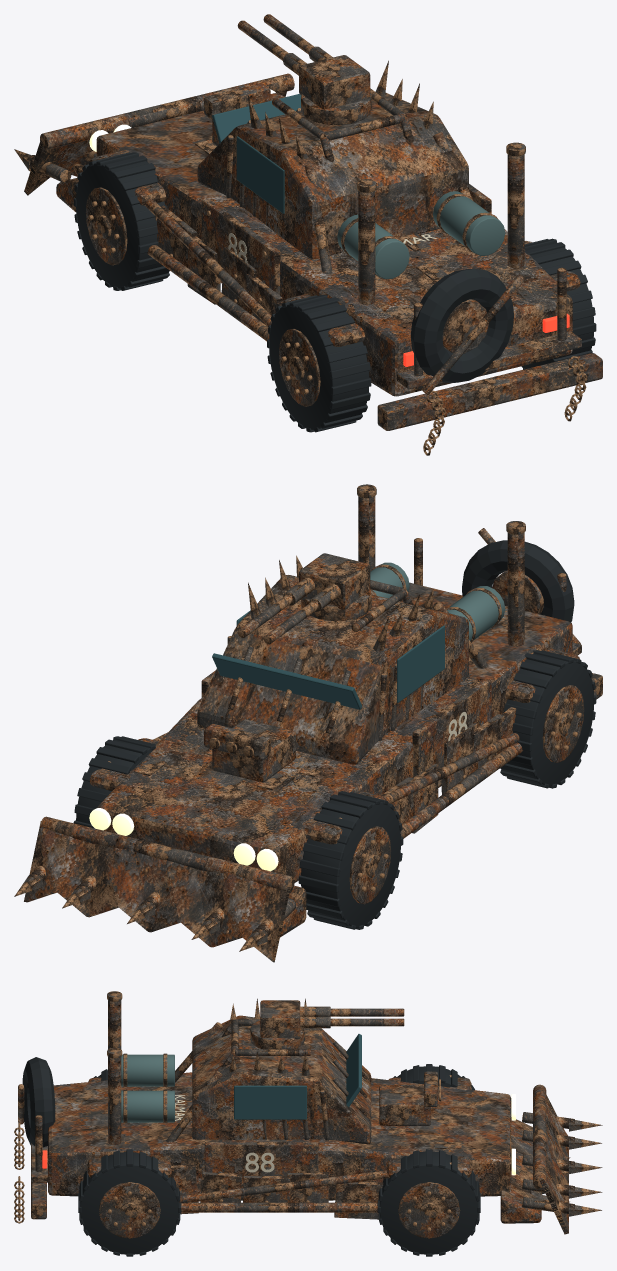
The model's file is wartruck.glb.
3 renders of one model, top to bottom at view 1: azimuth 30°, elevation 25°; view 2: azimuth 150°, elevation 25°; view 3: azimuth 270°, elevation 25°, orthographic. The views are drawn at different scales.
Parts seen in each view (by area): view 1: Armored chassis.002, Cabin.002, Strapped rear spare tire.002, Rear bumper.002, All terrain tire.009, All terrain tire.008, Plow top reinforcement.002, Riveted door armor.004, Turret housing.002, Nitro tank.005, Side glass.004, Deep steel wheel.008 (+25 smaller); view 2: Armored chassis.002, Cabin.002, Jagged welded plow.002, All terrain tire.008, All terrain tire.009, Strapped rear spare tire.002, Plow top reinforcement.002, Riveted door armor.004, Armored windscreen.002, Supercharger.002, Turret housing.002, Side glass.004 (+21 smaller); view 3: Armored chassis.002, Cabin.002, All terrain tire.010, All terrain tire.011, Riveted door armor.005, Side glass.005, Deep steel wheel.011, Deep steel wheel.010, Front ram.002, Strapped rear spare tire.002, Side rock slider.005, Jagged welded plow.002 (+29 smaller).
Boxes of the visible parts, left/top/right/bottom form: Armored chassis.002: left=96, top=93, right=572, bottom=396; Cabin.002: left=197, top=93, right=468, bottom=258; Strapped rear spare tire.002: left=410, top=268, right=513, bottom=383; Rear bumper.002: left=377, top=353, right=602, bottom=430; All terrain tire.009: left=269, top=298, right=368, bottom=430; All terrain tire.008: left=76, top=155, right=168, bottom=288; Plow top reinforcement.002: left=40, top=73, right=294, bottom=150; Riveted door armor.004: left=201, top=198, right=280, bottom=294; Turret housing.002: left=299, top=55, right=370, bottom=109; Nitro tank.005: left=433, top=191, right=505, bottom=255; Side glass.004: left=236, top=136, right=284, bottom=213; Deep steel wheel.008: left=86, top=187, right=127, bottom=265; Armored chassis.002: left=97, top=582, right=572, bottom=882; Cabin.002: left=197, top=575, right=468, bottom=764; Jagged welded plow.002: left=24, top=821, right=290, bottom=962; All terrain tire.008: left=301, top=794, right=400, bottom=927; All terrain tire.009: left=501, top=653, right=593, bottom=786; Strapped rear spare tire.002: left=462, top=540, right=574, bottom=622; Plow top reinforcement.002: left=40, top=816, right=294, bottom=892; Riveted door armor.004: left=412, top=679, right=491, bottom=777; Armored windscreen.002: left=212, top=653, right=361, bottom=709; Supercharger.002: left=212, top=719, right=295, bottom=782; Turret housing.002: left=299, top=553, right=370, bottom=609; Side glass.004: left=397, top=625, right=444, bottom=702; Armored chassis.002: left=48, top=1072, right=511, bottom=1200; Cabin.002: left=192, top=1015, right=371, bottom=1144; All terrain tire.010: left=379, top=1151, right=478, bottom=1254; All terrain tire.011: left=80, top=1152, right=179, bottom=1254; Riveted door armor.005: left=204, top=1142, right=318, bottom=1187; Side glass.005: left=234, top=1085, right=306, bottom=1119; Deep steel wheel.011: left=99, top=1182, right=160, bottom=1238; Deep steel wheel.010: left=398, top=1182, right=460, bottom=1238; Front ram.002: left=500, top=1117, right=541, bottom=1223; Strapped rear spare tire.002: left=22, top=1057, right=55, bottom=1147; Side rock slider.005: left=181, top=1202, right=377, bottom=1212; Jagged welded plow.002: left=540, top=1095, right=568, bottom=1234.
Bounding box in the file's own units: 2.74 × 2.46 × 6.61.
11 materials, 5 textured.
